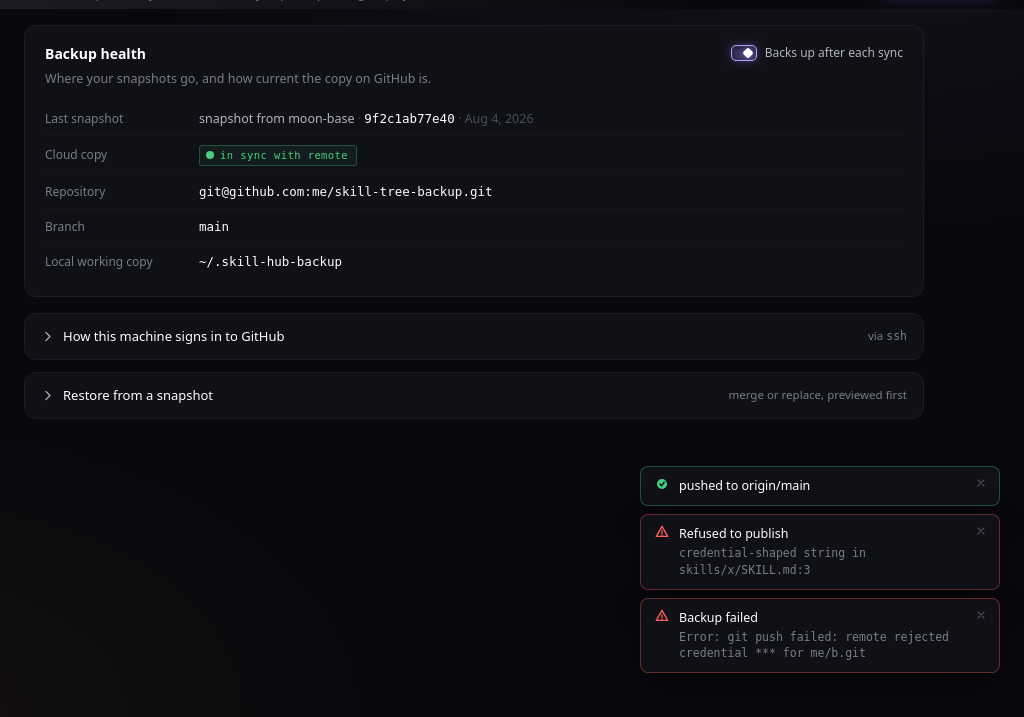
Test: BackupScreen — PAT handling › never leaves the token in the DOM after submit
Click the button with test id "backup-credential-disclosure".
click(174, 336)  # box [25, 314, 923, 359]
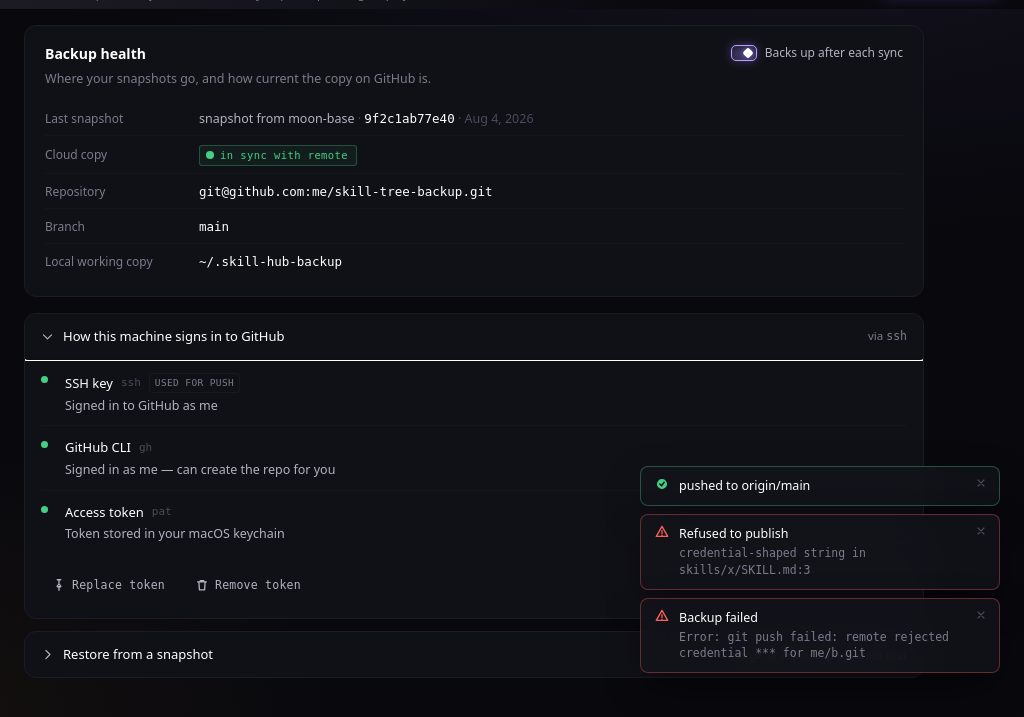
Click the button with test id "open-pat-form".
click(108, 585)  # box [41, 570, 176, 600]
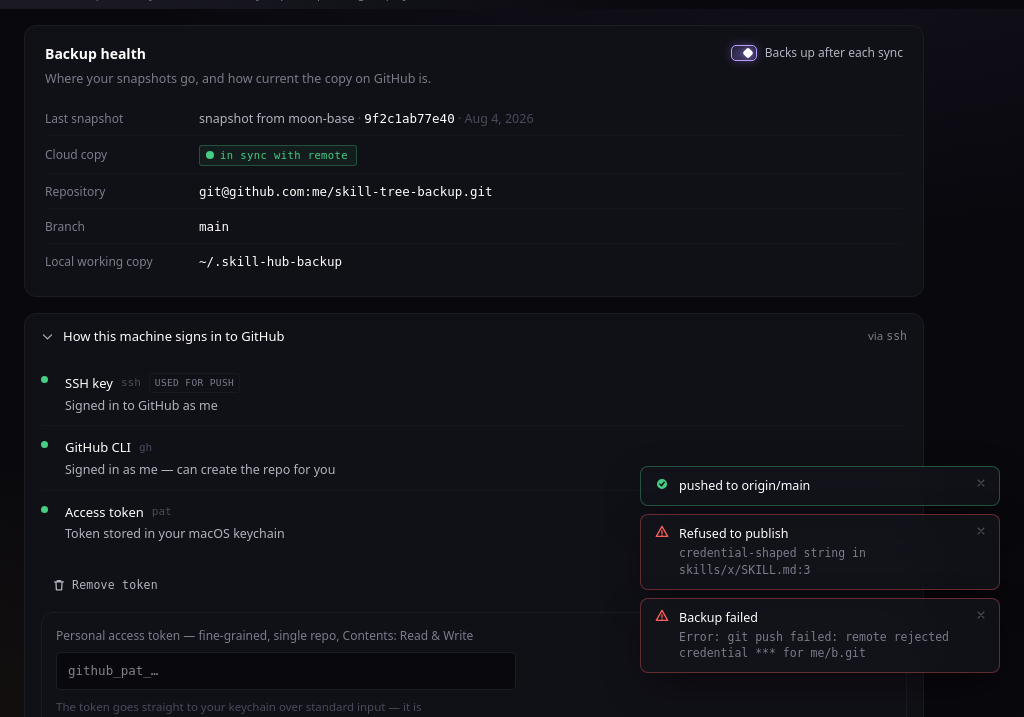
Type "github_pat_11ABCDEFG_supersecretvalue" into the password field labelled "Personal access token".
click(286, 671); type("github_pat_11ABCDEFG_supersecretvalue")  # box [56, 652, 516, 690]
(page scrolled)
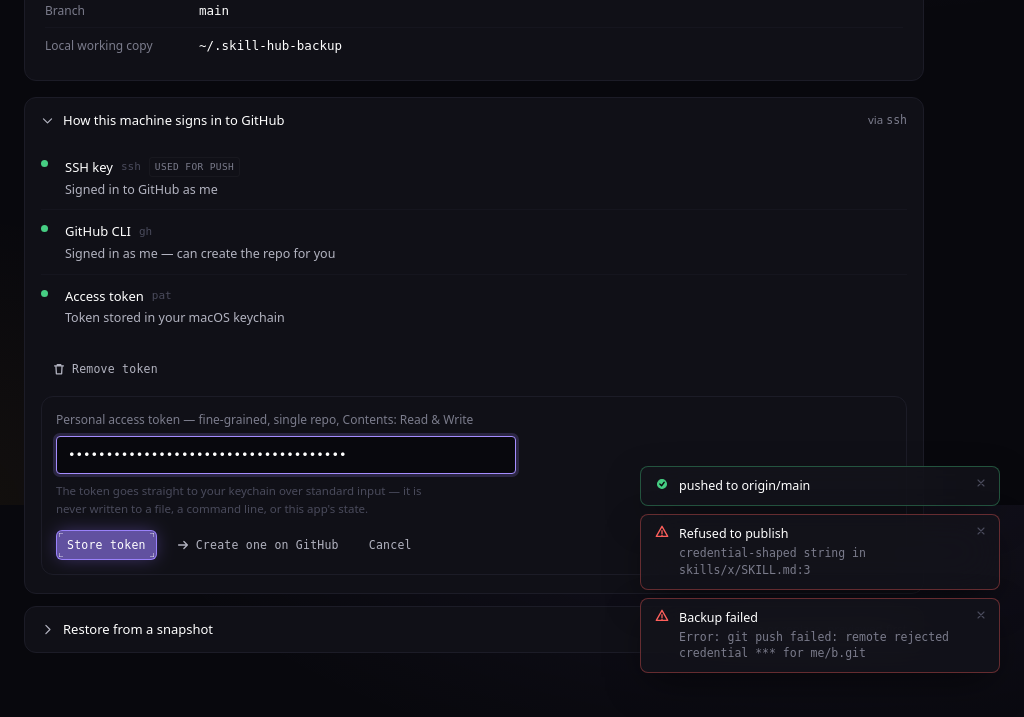
Click the button "Store token".
click(106, 545)  # box [56, 530, 157, 560]
(page scrolled)
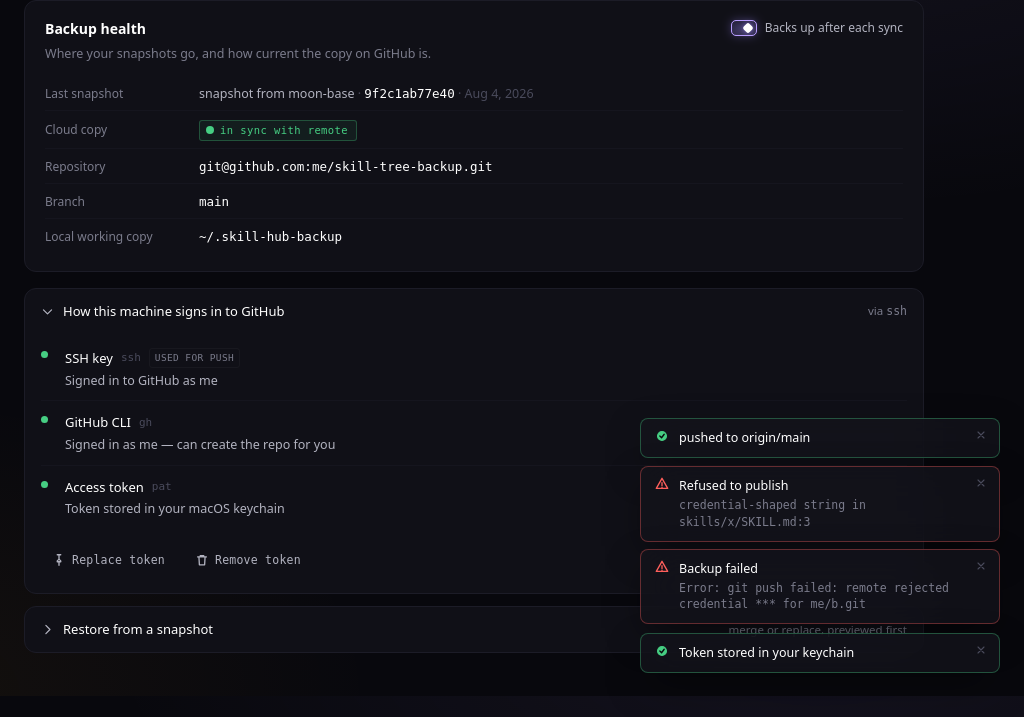
Now the form with test id "pat-form" is gone
